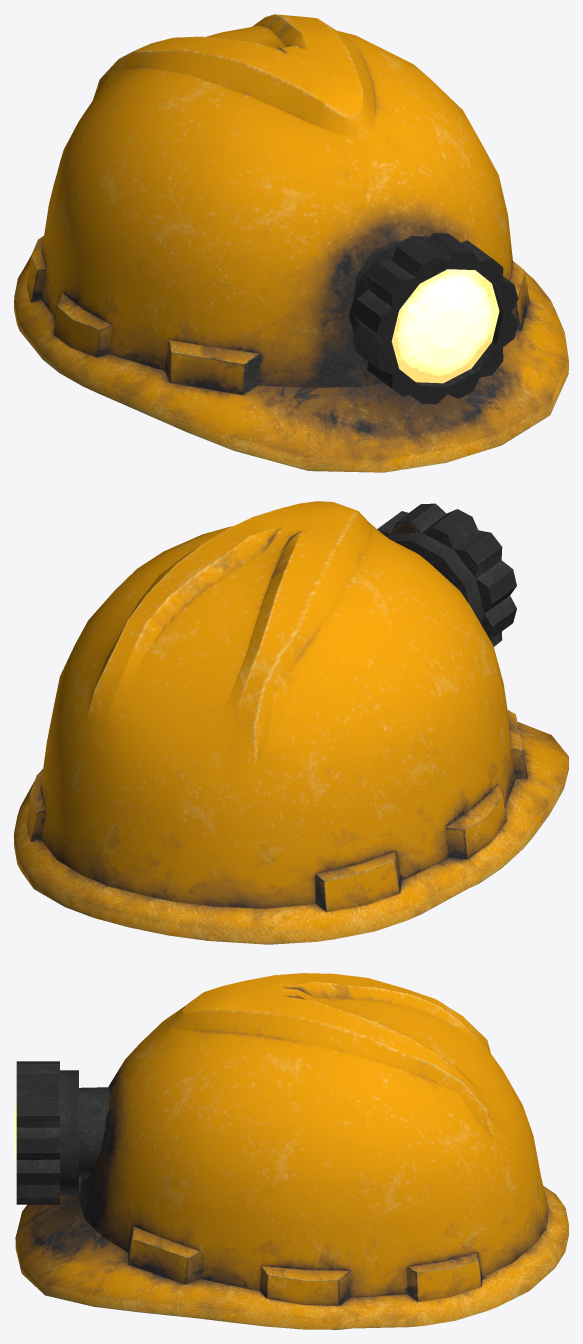
The model's file is work_helmet.glb.
3 renders of one model, top to bottom at view 1: azimuth 30°, elevation 25°; view 2: azimuth 150°, elevation 25°; view 3: azimuth 270°, elevation 25°, orthographic. The views are drawn at different scales.
Visible parts, largest first — view 1: Mine_helmet_0; view 2: Mine_helmet_0; view 3: Mine_helmet_0.
Boxes of the visible parts, box(x1,y1,x2,y2) form: Mine_helmet_0: box(14, 14, 568, 472); Mine_helmet_0: box(14, 501, 568, 944); Mine_helmet_0: box(14, 973, 568, 1329).
Size of the model in its own units: 0.3896 by 0.2504 by 0.4845.
Materials: 1 (1 with a texture image).
